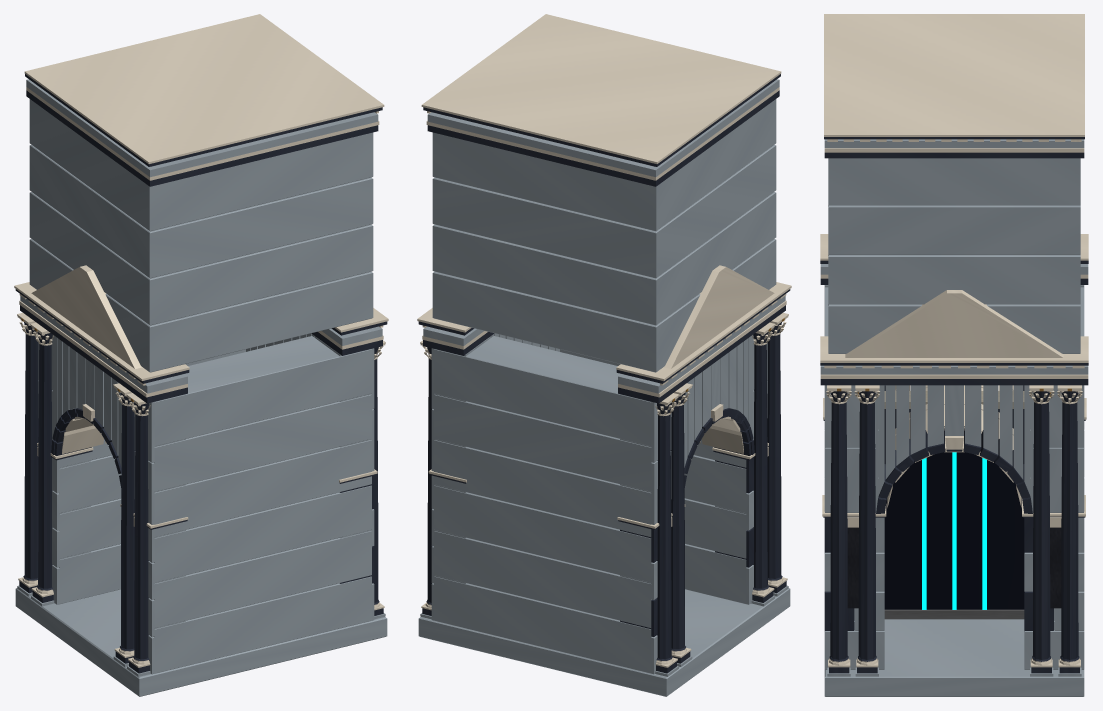
File: COL_GateTower_West.glb
The picture shows the model from 3 angles, left to right: view 1: azimuth 30°, elevation 25°; view 2: azimuth 150°, elevation 25°; view 3: azimuth 270°, elevation 25°; orthographic projection. The views are drawn at different scales.
Parts seen in each view (by area): view 1: COL_GateTower_West; view 2: COL_GateTower_West; view 3: COL_GateTower_West.
Boxes of the visible parts, x1,y1,x2,y2 form: COL_GateTower_West: (14,14,388,696); COL_GateTower_West: (417,14,791,696); COL_GateTower_West: (820,14,1088,696).
Size of the model in its own units: 32.18 by 65.7 by 28.52.
9 materials, 9 textured.
